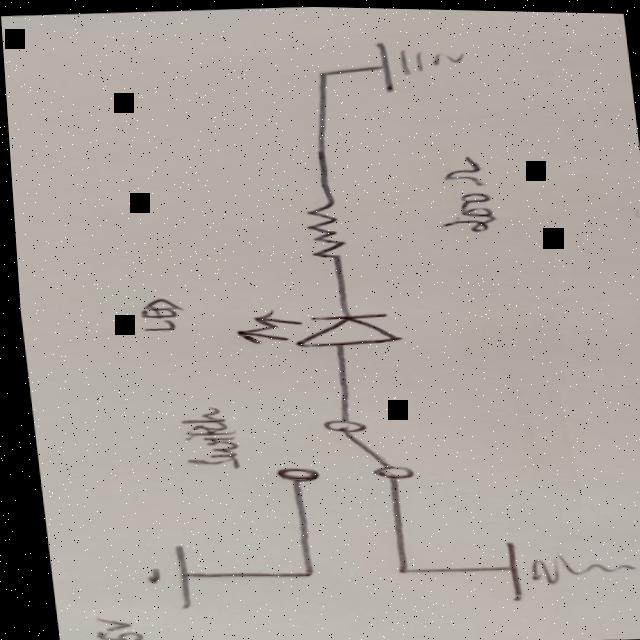diode: (223, 305, 397, 353)
ground: (488, 533, 631, 603), (368, 36, 468, 92)
junction: (379, 562, 417, 577), (278, 565, 315, 580), (308, 68, 337, 79)
resistor: (295, 200, 345, 262)
source: (126, 544, 192, 612)
switch: (259, 414, 409, 486)
text: (429, 153, 497, 233), (171, 405, 235, 472), (127, 297, 175, 334), (82, 616, 134, 640)
